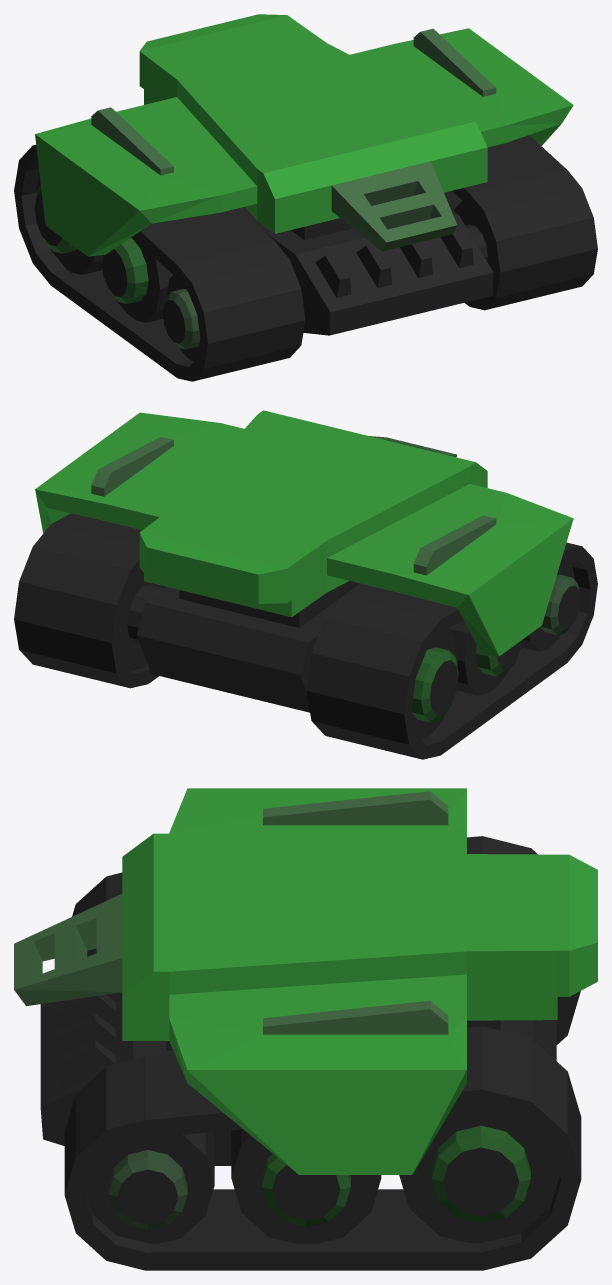
The model's file is medium_base.fbx.
3 renders of one model, top to bottom at view 1: azimuth 30°, elevation 25°; view 2: azimuth 150°, elevation 25°; view 3: azimuth 270°, elevation 25°, orthographic. The views are drawn at different scales.
Visible parts, largest first — view 1: Cube.007, Cylinder.067, Cube.011, Cylinder.065, Cylinder.066, Cylinder.051; view 2: Cube.007, Cylinder.067, Cube.011, Cylinder.051, Cylinder.065, Cylinder.066; view 3: Cube.007, Cylinder.067, Cylinder.051, Cube.011, Cylinder.066, Cylinder.065.
Boxes of the visible parts, box(x1,y1,x2,y2) form: Cube.007: box(35, 14, 573, 256); Cylinder.067: box(14, 135, 597, 381); Cube.011: box(239, 207, 493, 335); Cylinder.065: box(101, 191, 462, 322); Cylinder.066: box(162, 201, 492, 360); Cylinder.051: box(34, 173, 102, 274); Cube.007: box(35, 410, 573, 656); Cylinder.067: box(14, 513, 597, 759); Cube.011: box(136, 581, 363, 712); Cylinder.051: box(119, 570, 458, 739); Cylinder.065: box(448, 620, 521, 695); Cylinder.066: box(521, 563, 580, 651); Cube.007: box(14, 788, 597, 1174); Cylinder.067: box(64, 836, 581, 1270); Cylinder.051: box(399, 1107, 559, 1242); Cube.011: box(40, 992, 556, 1165); Cylinder.066: box(86, 1132, 214, 1243); Cylinder.065: box(231, 1129, 381, 1243).
Bounding box in the file's own units: 219 × 84.39 × 183.
